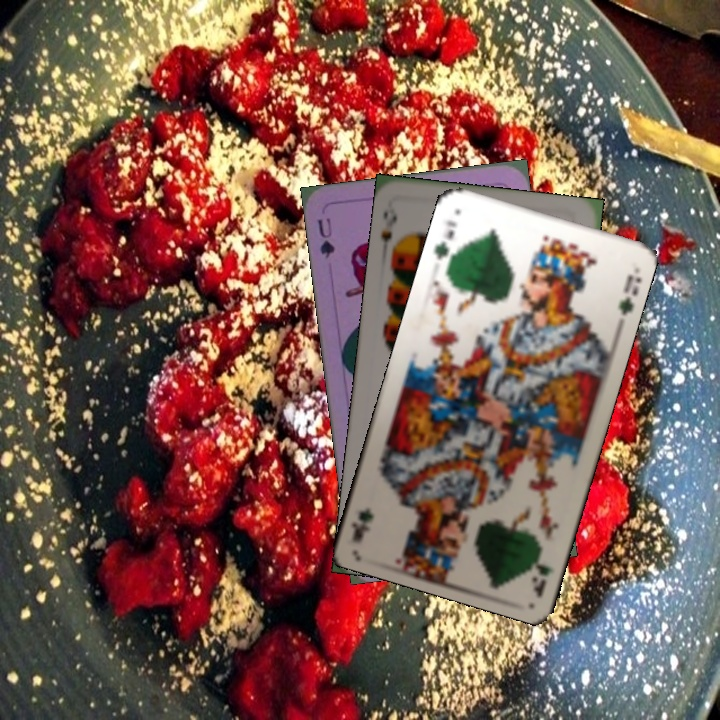GK: (527, 537, 556, 599), (429, 216, 460, 262)
GU: (313, 213, 337, 261)
S9: (377, 202, 400, 260)
